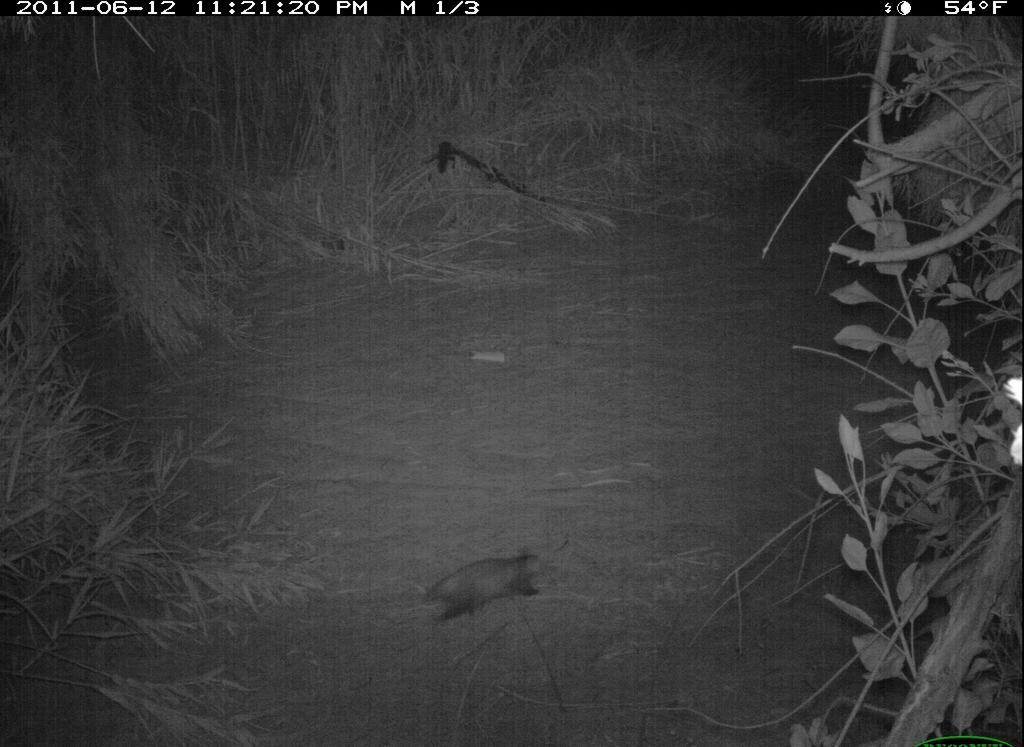opossum: (405, 532, 560, 639)
